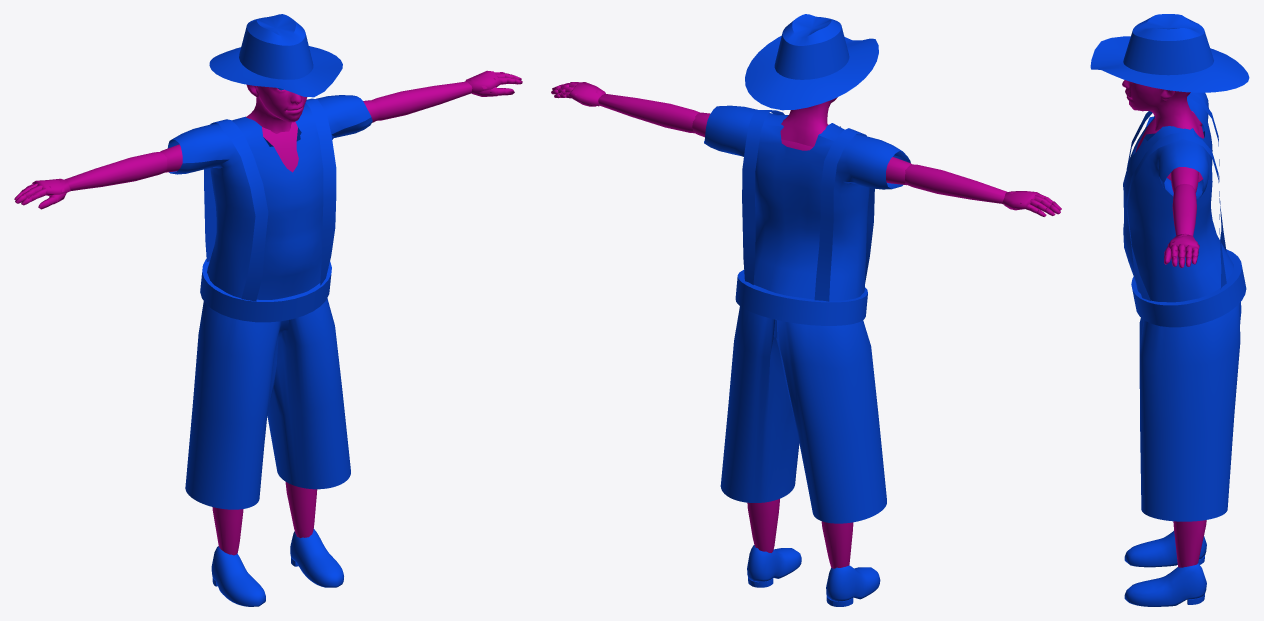
File: NPC.fbx
3 views of the same model, side by side, from view 1: azimuth 30°, elevation 25°; view 2: azimuth 150°, elevation 25°; view 3: azimuth 270°, elevation 25° (orthographic).
Parts seen in each view (by area): view 1: Cylinder, Plane, Cylinder.001, BO_Cylinder8, Cylinder.003, Cylinder.002, BO_LowerLeg3, Cylinder.004, BO_LowerArm5, BO_LowerArm6, _famme5, BO_OvalSphere25 (+2 smaller); view 2: Cylinder, Plane, Cylinder.001, Cylinder.002, BO_Cylinder8, Cylinder.003, BO_LowerLeg3, Cylinder.004, BO_LowerArm5, BO_LowerArm6, _famme5, BO_OvalSphere25 (+1 smaller); view 3: Cylinder, Plane, Cylinder.001, BO_Cylinder8, Cylinder.002, _famme5, Cylinder.004, BO_LowerLeg3, BO_LowerArm6, BO_OvalSphere38, Cylinder.003, BO_UpperArm6 (+1 smaller).
Part boxes in pixels (x1=…): Cylinder: x1=185, y1=298, x2=350, y2=509; Plane: x1=167, y1=95, x2=372, y2=299; Cylinder.001: x1=209, y1=14, x2=342, y2=97; BO_Cylinder8: x1=211, y1=528, x2=343, y2=606; Cylinder.003: x1=204, y1=119, x2=268, y2=301; Cylinder.002: x1=200, y1=259, x2=331, y2=322; BO_LowerLeg3: x1=212, y1=482, x2=317, y2=555; Cylinder.004: x1=305, y1=98, x2=336, y2=285; BO_LowerArm5: x1=64, y1=152, x2=167, y2=190; BO_LowerArm6: x1=371, y1=81, x2=472, y2=120; _famme5: x1=246, y1=84, x2=307, y2=133; BO_OvalSphere25: x1=14, y1=178, x2=70, y2=209; Cylinder: x1=720, y1=306, x2=886, y2=523; Plane: x1=704, y1=105, x2=910, y2=300; Cylinder.001: x1=745, y1=14, x2=878, y2=110; Cylinder.002: x1=735, y1=270, x2=867, y2=325; BO_Cylinder8: x1=747, y1=545, x2=880, y2=606; Cylinder.003: x1=814, y1=128, x2=874, y2=301; BO_LowerLeg3: x1=747, y1=499, x2=853, y2=568; Cylinder.004: x1=742, y1=110, x2=784, y2=284; BO_LowerArm5: x1=905, y1=164, x2=1007, y2=203; BO_LowerArm6: x1=598, y1=93, x2=699, y2=133; _famme5: x1=780, y1=97, x2=837, y2=146; BO_OvalSphere25: x1=1002, y1=191, x2=1061, y2=216; Cylinder: x1=1139, y1=302, x2=1241, y2=521; Plane: x1=1123, y1=92, x2=1233, y2=302; Cylinder.001: x1=1090, y1=14, x2=1249, y2=92; BO_Cylinder8: x1=1124, y1=531, x2=1206, y2=606; Cylinder.002: x1=1131, y1=249, x2=1246, y2=327; _famme5: x1=1122, y1=80, x2=1199, y2=136; Cylinder.004: x1=1126, y1=132, x2=1226, y2=300; BO_LowerLeg3: x1=1173, y1=520, x2=1206, y2=567; BO_LowerArm6: x1=1172, y1=184, x2=1196, y2=235; BO_OvalSphere38: x1=1164, y1=233, x2=1199, y2=268; Cylinder.003: x1=1126, y1=93, x2=1226, y2=251; BO_UpperArm6: x1=1170, y1=167, x2=1198, y2=193.
Size of the model in its own units: 163 by 171 by 44.2.
